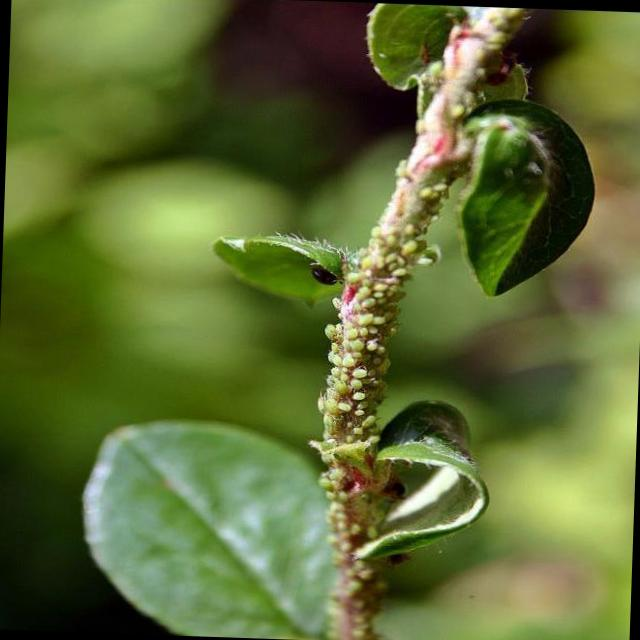aphid: (315, 175, 446, 495), (306, 256, 342, 288)
